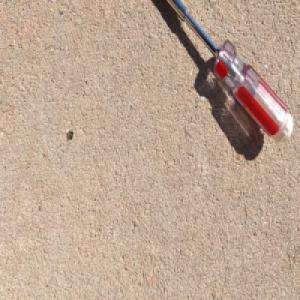Screwdriver: (163, 0, 294, 143)
